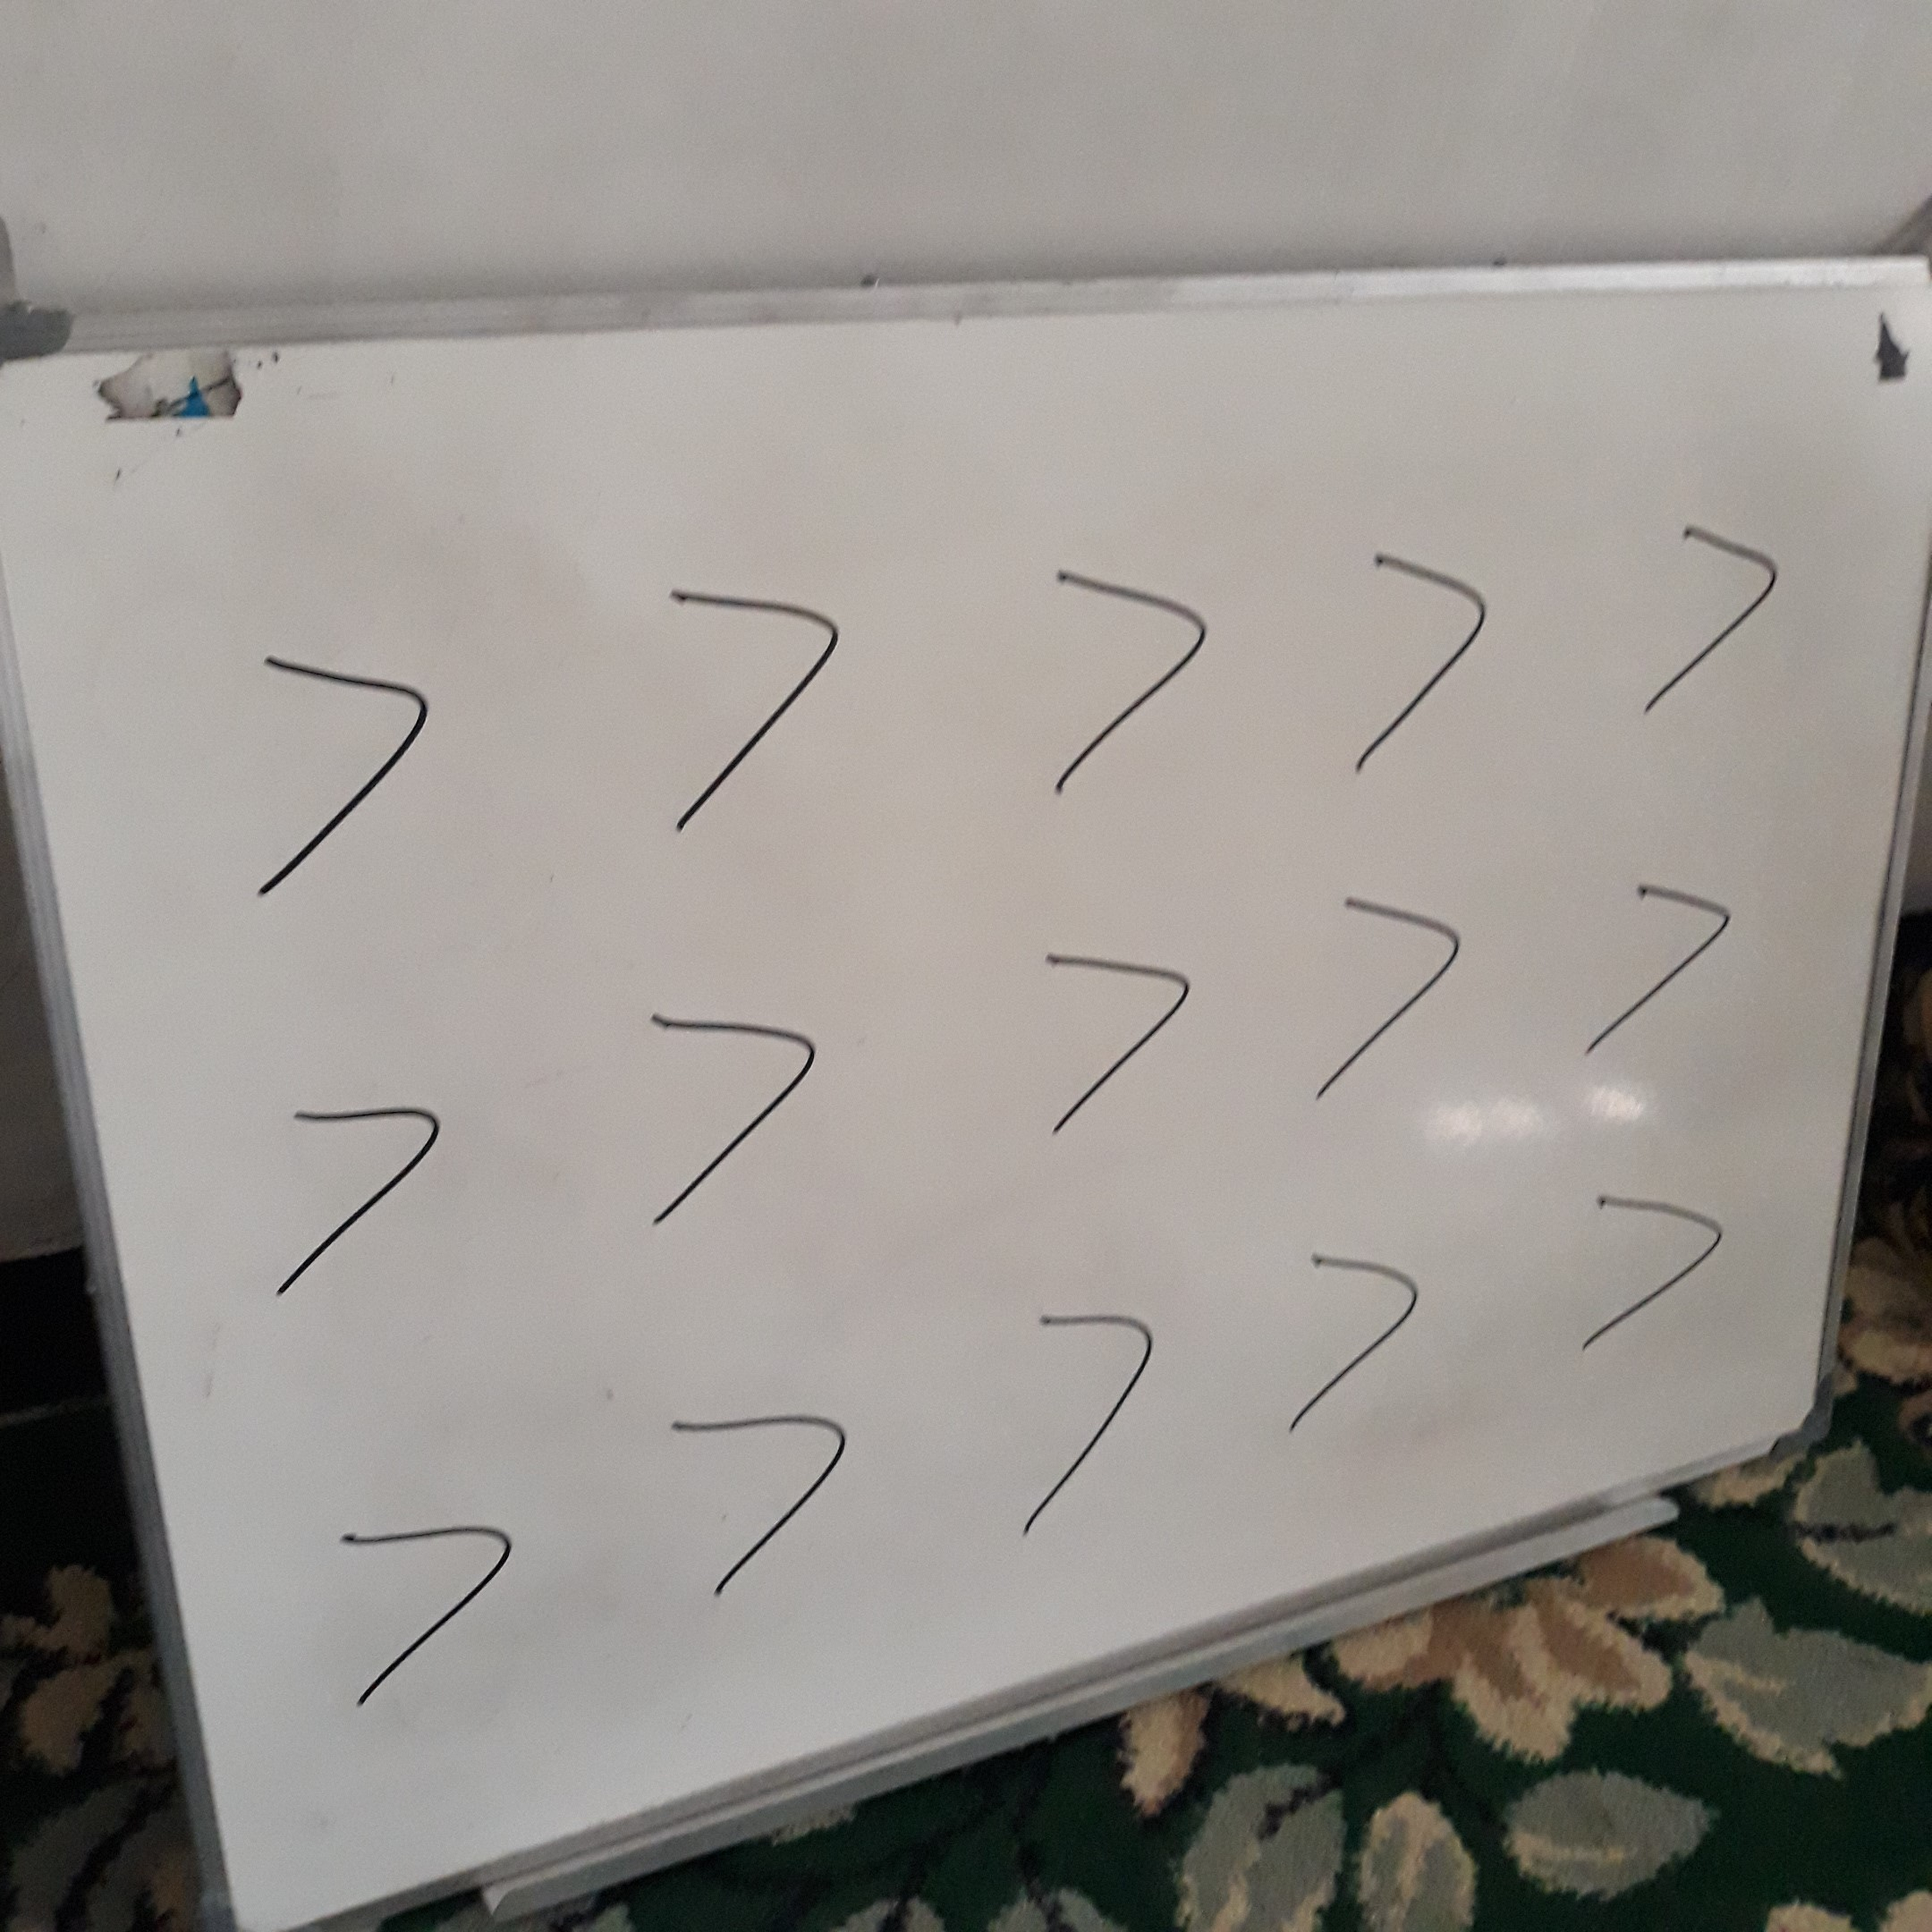morethan: (998, 542, 1231, 818), (1000, 906, 1233, 1182), (1276, 852, 1509, 1128), (638, 1367, 870, 1642), (960, 1284, 1192, 1560), (627, 583, 860, 859), (232, 642, 464, 918), (1596, 473, 1828, 749), (233, 1047, 466, 1323), (610, 971, 843, 1247), (1558, 825, 1791, 1100), (308, 1465, 540, 1741), (1252, 1216, 1485, 1491), (1294, 518, 1527, 793), (1547, 1157, 1758, 1376)
